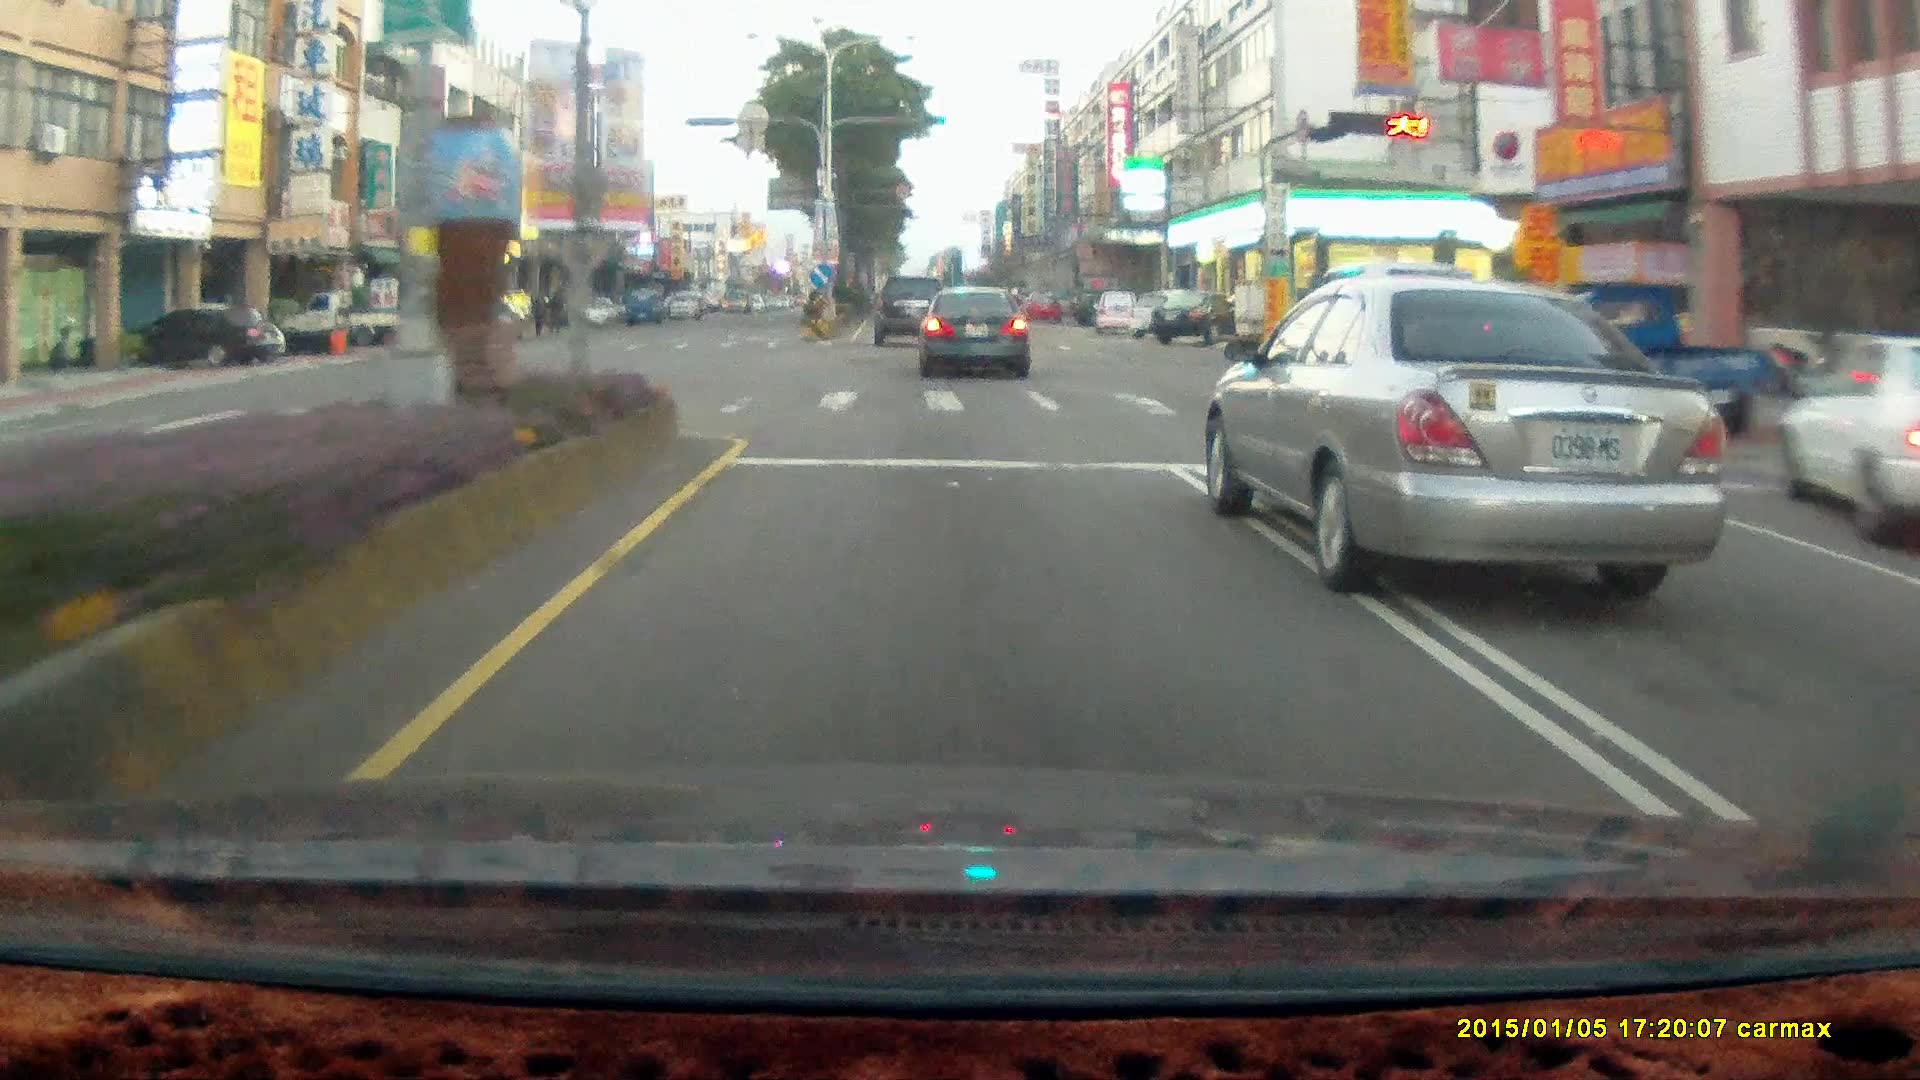pedestrian: (544, 288, 564, 338), (525, 294, 546, 339)
vehicle: (1200, 271, 1724, 585), (1509, 277, 1769, 444), (1522, 281, 1774, 448), (1297, 262, 1519, 411), (1775, 329, 1920, 551), (1774, 328, 1919, 550), (918, 283, 1030, 377), (920, 288, 1033, 381), (111, 304, 280, 364), (275, 290, 414, 353), (143, 304, 285, 365), (289, 291, 417, 357), (874, 271, 956, 348), (1150, 286, 1252, 340), (875, 272, 951, 343), (1155, 290, 1241, 349), (1126, 290, 1195, 338), (459, 304, 522, 341), (1068, 285, 1126, 325), (1088, 287, 1139, 330), (1094, 290, 1140, 336), (571, 295, 617, 325), (1021, 289, 1058, 320), (627, 290, 660, 321), (661, 289, 693, 314)
